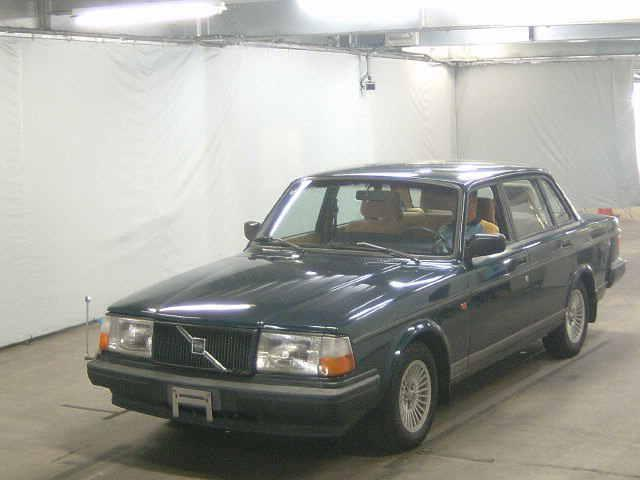Car: (57, 128, 630, 466)
